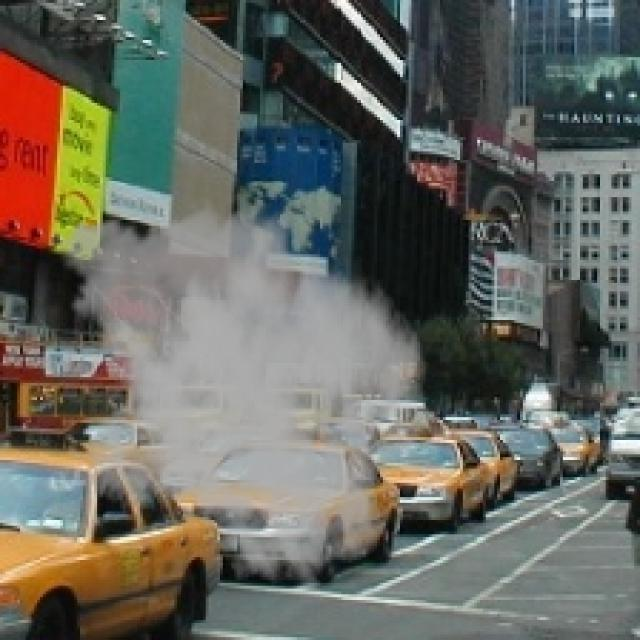smoke: (46, 194, 428, 597)
